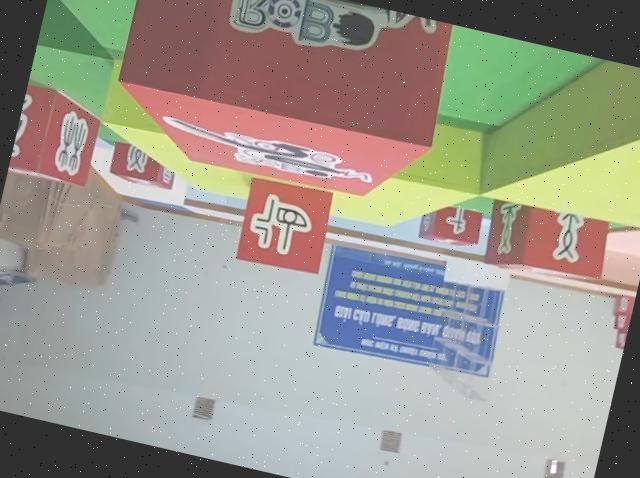R1: (100, 0, 458, 213)
R2 Fake: (8, 80, 104, 186)
R2 Real: (480, 193, 613, 290), (234, 175, 335, 279), (418, 195, 485, 251)
